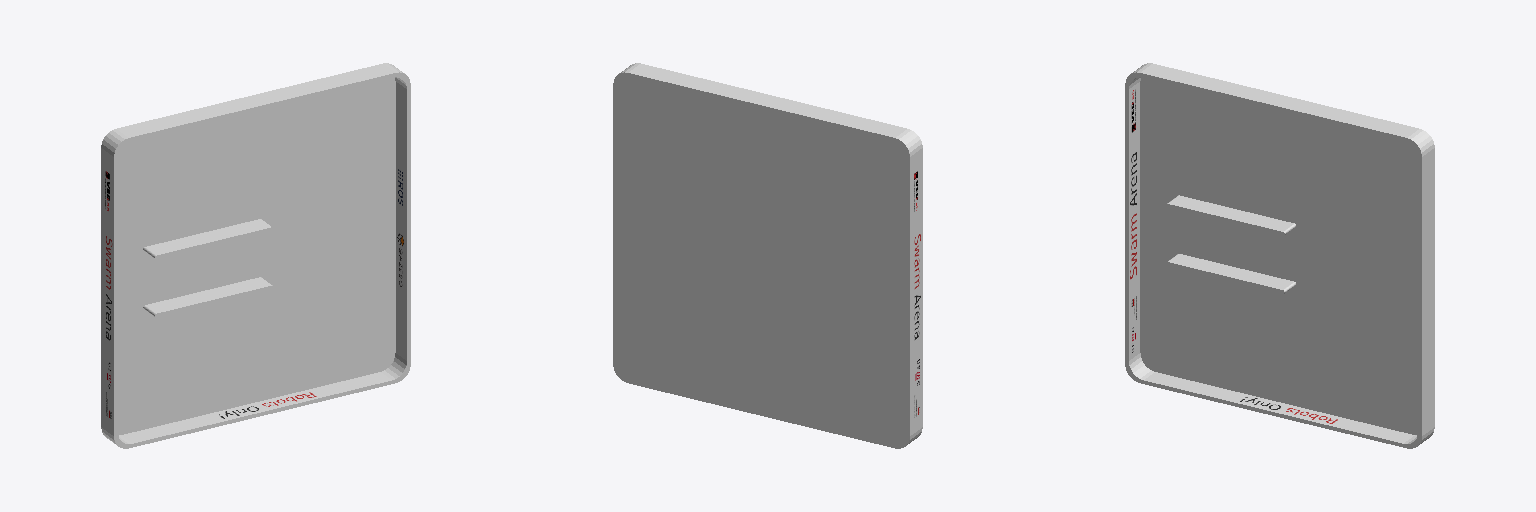
The picture shows the model from 3 angles: view 1: azimuth 30°, elevation 25°; view 2: azimuth 150°, elevation 25°; view 3: azimuth 330°, elevation 25°; orthographic projection.
Visible parts, largest first — view 1: arena; view 2: arena; view 3: arena.
Boxes of the visible parts, box(x1,y1,x2,y2) form: arena: box(101, 63, 410, 448); arena: box(613, 63, 922, 448); arena: box(1125, 63, 1434, 448).
Size of the model in its own units: 4 by 4 by 0.3.
Materials: 1 (1 with a texture image).